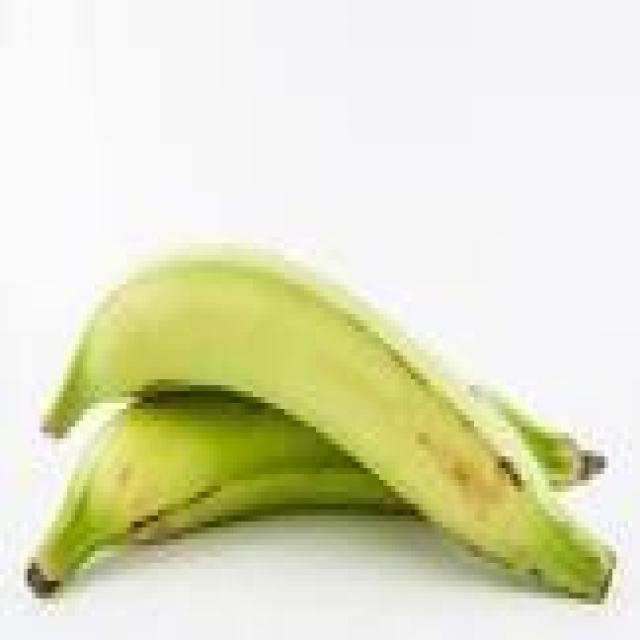banana: (48, 249, 612, 598), (28, 392, 410, 592), (28, 392, 406, 592), (471, 386, 604, 485)
